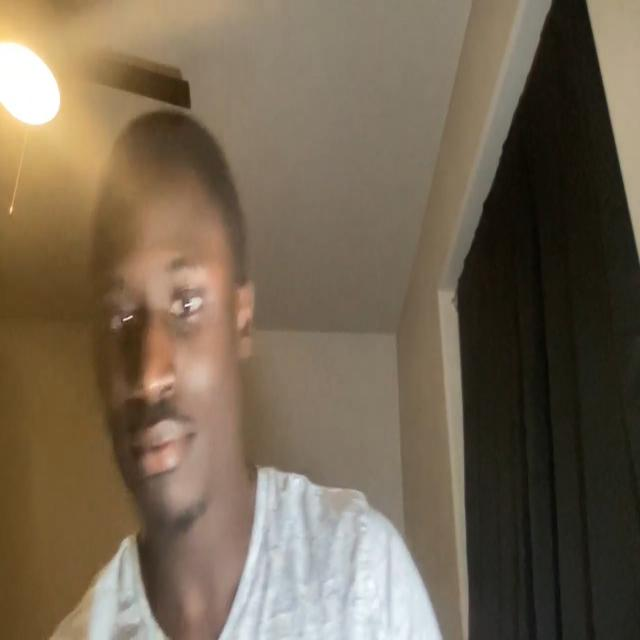face: (90, 108, 254, 538)
